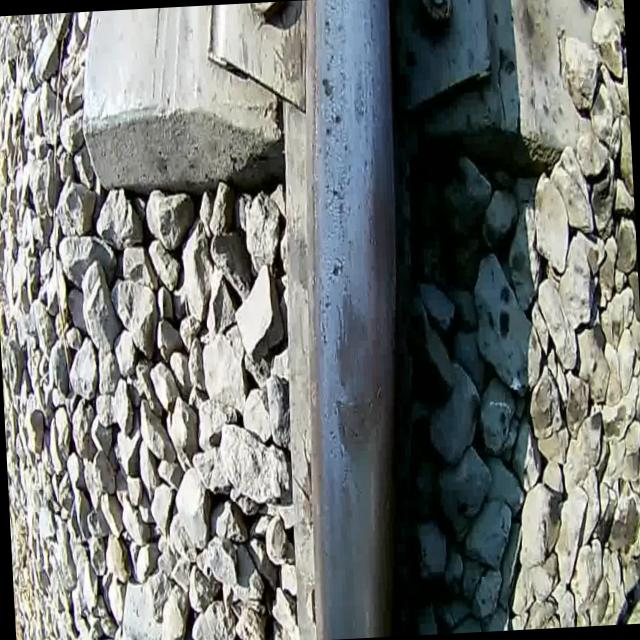Squats: (324, 279, 390, 468)
